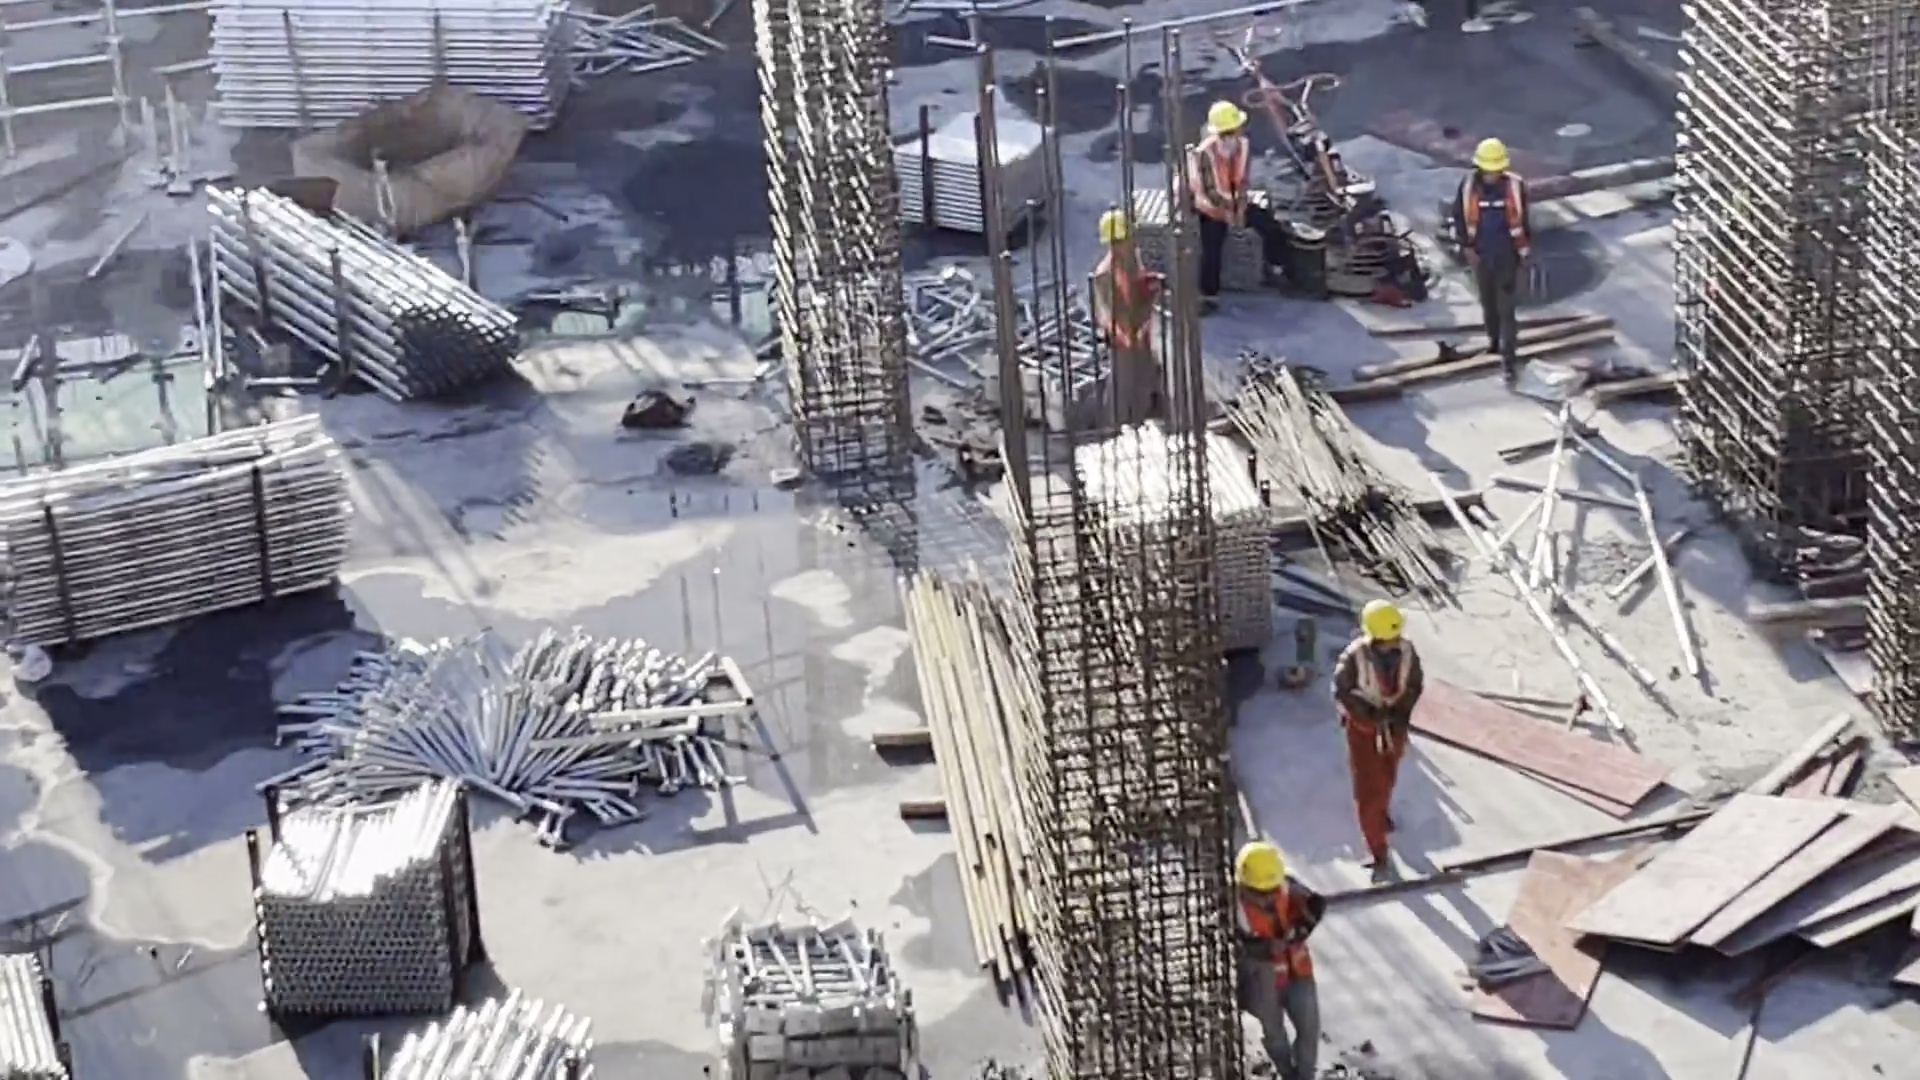board: (1597, 795, 1907, 975)
helmet: (1466, 131, 1525, 180), (1236, 846, 1297, 890), (1360, 597, 1412, 643), (1097, 206, 1137, 246), (1206, 101, 1255, 135)
hopper: (288, 69, 530, 243)
person: (1221, 846, 1347, 1078), (1329, 594, 1425, 875), (1181, 93, 1303, 298), (1448, 127, 1547, 374), (1088, 202, 1164, 426)
scaffold: (257, 607, 745, 828), (1, 399, 381, 630), (194, 181, 490, 413), (242, 778, 497, 1013), (1062, 424, 1280, 666), (192, 1, 591, 127), (699, 914, 938, 1075), (904, 287, 1091, 414), (896, 112, 1047, 242), (373, 1005, 585, 1080), (10, 922, 94, 1080)
vest: (1234, 887, 1313, 978), (1348, 639, 1419, 736), (1186, 134, 1265, 217), (1458, 175, 1529, 267), (1093, 254, 1148, 348)
